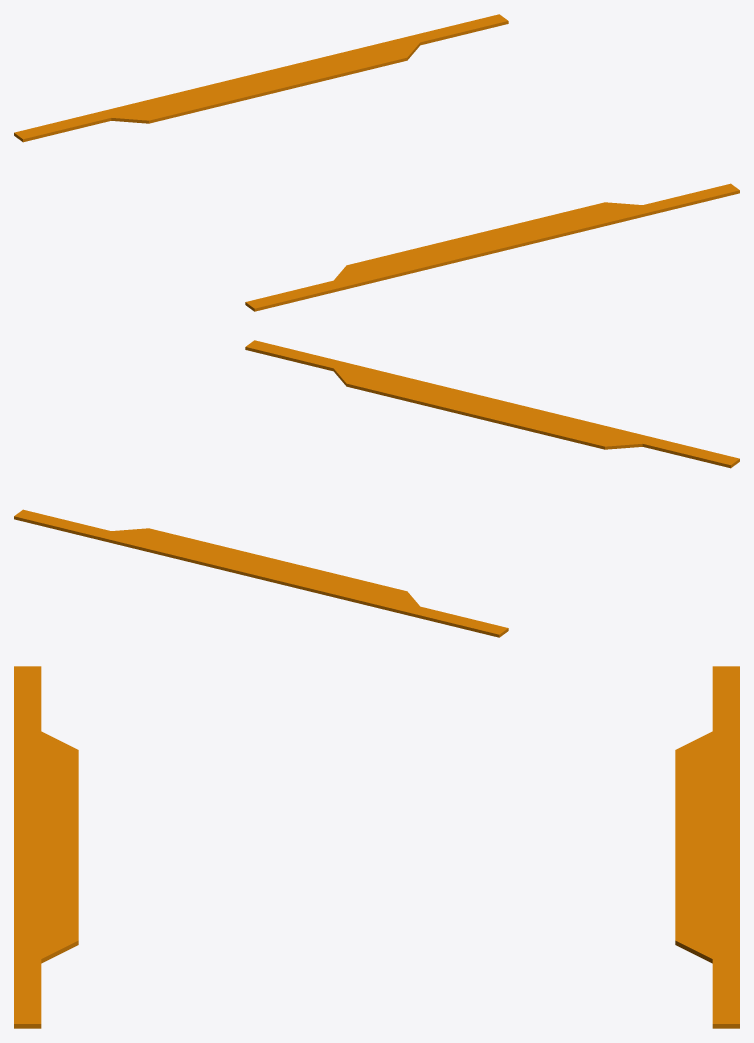
The model's file is LPSciFi_FloorMarker.fbx.
3 views of the same model, one above another, from view 1: azimuth 30°, elevation 25°; view 2: azimuth 150°, elevation 25°; view 3: azimuth 270°, elevation 25° (orthographic). The views are drawn at different scales.
Parts seen in each view (by area): view 1: FloorMarker; view 2: FloorMarker; view 3: FloorMarker.
Boxes of the visible parts, bbox=[...] form: FloorMarker: bbox=[14, 14, 739, 311]; FloorMarker: bbox=[14, 340, 739, 637]; FloorMarker: bbox=[14, 666, 739, 1028].
Size of the model in its own units: 400 by 2.4 by 343.
